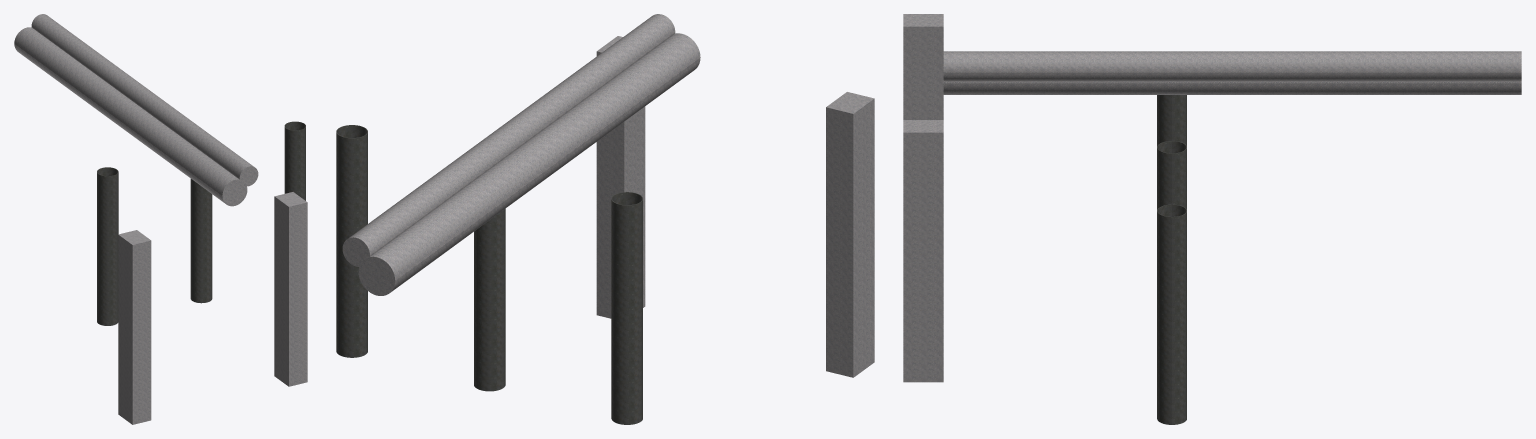
The picture shows the model from 3 angles, left to right: view 1: azimuth 30°, elevation 25°; view 2: azimuth 150°, elevation 25°; view 3: azimuth 270°, elevation 25°; orthographic projection. The views are drawn at different scales.
Visible parts, largest first — view 1: 0_0_2_2_2_0_2; view 2: 0_0_2_2_2_0_2; view 3: 0_0_2_2_2_0_2.
Part boxes in pixels (x1,y1,x2,y2): 0_0_2_2_2_0_2: [14, 14, 307, 424]; 0_0_2_2_2_0_2: [336, 14, 874, 424]; 0_0_2_2_2_0_2: [903, 14, 1521, 424].
Bounding box in the file's own units: 8.6 × 6.6 × 12.33.
7 materials, 7 textured.
